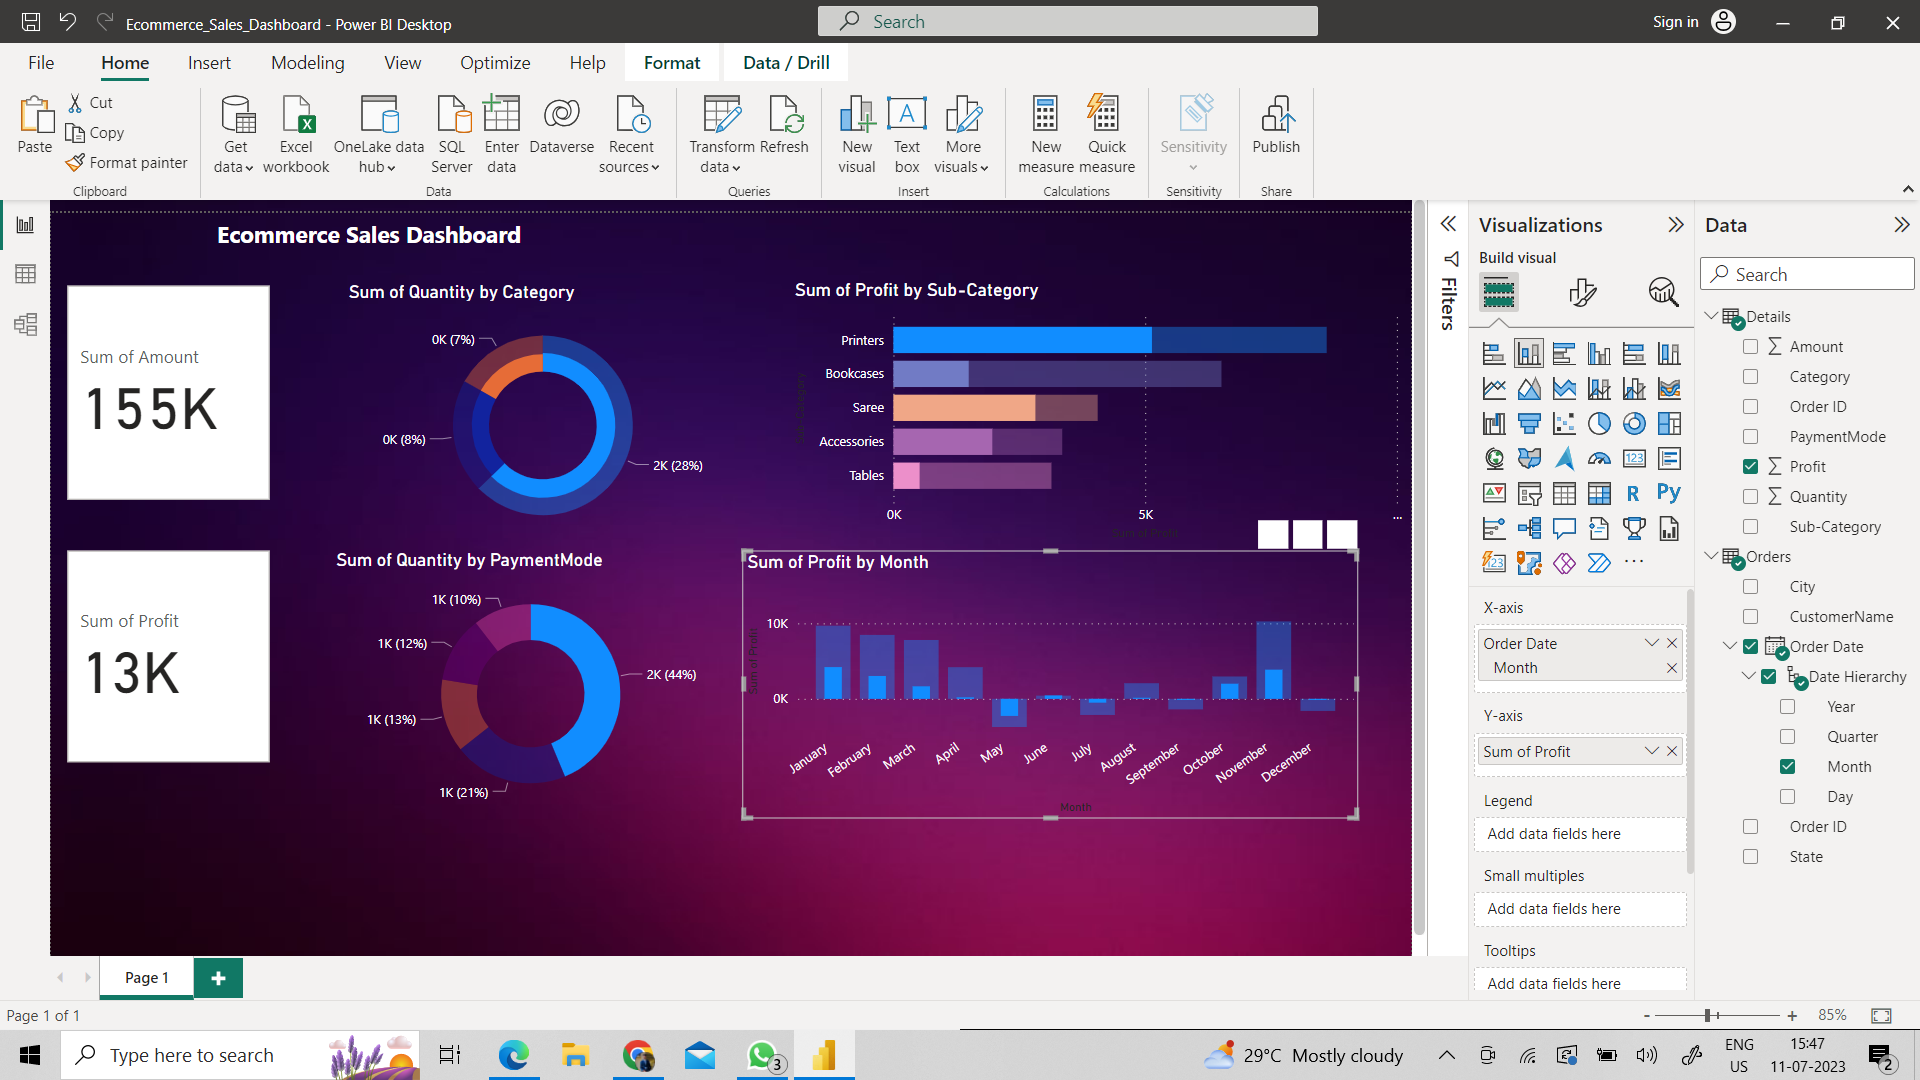

The dashboard page shown, as its layout file describes it:
{"tool":"powerbi","page":{"name":"Page 1","canvas":[1280,720],"ordinal":0},"visuals":[{"type":"textbox","box":[9.6,0,580,63.1],"z":0},{"type":"columnChart","fields":{"Category":["Orders.Order Date.Variation.Date Hierarchy.Month"],"Y":["Sum(Details.Profit)"]},"box":[697.1,395.6,580.1,253.3],"z":1000},{"type":"barChart","fields":{"Category":["Details.Sub-Category"],"Y":["Sum(Details.Profit)"]},"box":[695.9,62.7,583.7,249.6],"z":1001},{"type":"donutChart","fields":{"Category":["Details.Category"],"Y":["Sum(Details.Quantity)"]},"box":[275,107.3,375.1,253.3],"z":1002},{"type":"donutChart","fields":{"Y":["Sum(Details.Quantity)"],"Category":["Details.PaymentMode"]},"box":[275,395.6,376.3,253.3],"z":1003},{"type":"cardVisual","fields":{"Data":["Sum(Details.Amount)"]},"box":[10,142,234,253],"z":1004},{"type":"cardVisual","fields":{"Data":["Sum(Details.Profit)"]},"box":[10,445,234,253],"z":1005}]}

Visuals, with their boxes on the page's 1280x720 design canvas (x1, y1, x2, y2). These are canvas units, not pixel positions in the 1920x1080 screenshot, which may show the page scaled, cropped or inside an application window:
textbox: [10, 0, 590, 63]
columnChart - Orders.Order Date.Variation.Date Hierarchy.Month x Sum(Details.Profit): [697, 396, 1277, 649]
barChart - Details.Sub-Category x Sum(Details.Profit): [696, 63, 1280, 312]
donutChart - Details.Category x Sum(Details.Quantity): [275, 107, 650, 361]
donutChart - Sum(Details.Quantity) x Details.PaymentMode: [275, 396, 651, 649]
cardVisual - Sum(Details.Amount): [10, 142, 244, 395]
cardVisual - Sum(Details.Profit): [10, 445, 244, 698]
